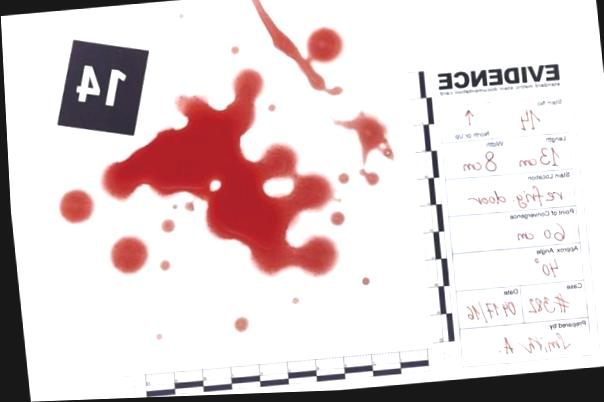Fire: (99, 69, 339, 279), (252, 0, 346, 97), (331, 111, 393, 169), (106, 234, 146, 274), (57, 187, 93, 223), (358, 170, 379, 187), (229, 316, 246, 334), (158, 218, 174, 233), (328, 212, 343, 227), (336, 173, 348, 186)
